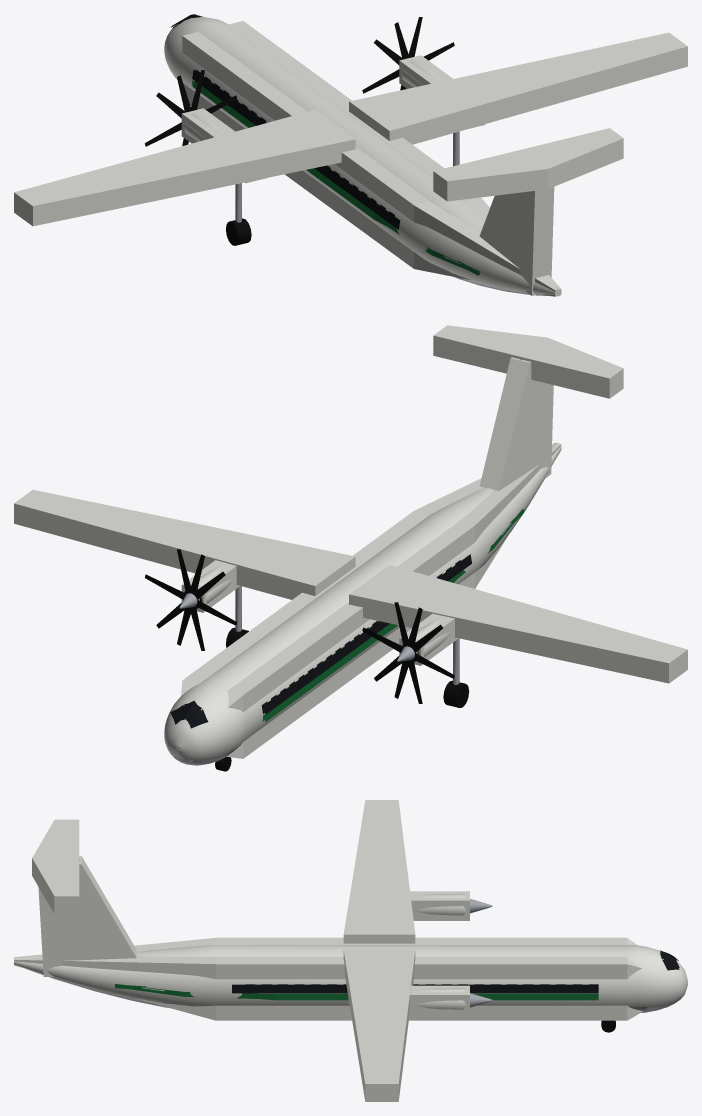
File: bne_ac_turboprop_green.dae
3 views of the same model, one above another, from view 1: azimuth 30°, elevation 25°; view 2: azimuth 150°, elevation 25°; view 3: azimuth 270°, elevation 25° (orthographic). The views are drawn at different scales.
Visible parts, largest first — view 1: Colmesh_bne_ac_turboprop_green-1, bne_ac_turboprop_green160, bne_ac_turboprop_green16; view 2: Colmesh_bne_ac_turboprop_green-1, bne_ac_turboprop_green160, bne_ac_turboprop_green16; view 3: Colmesh_bne_ac_turboprop_green-1, bne_ac_turboprop_green160, bne_ac_turboprop_green16.
Boxes of the visible parts, x1,y1,x2,y2 form: Colmesh_bne_ac_turboprop_green-1: (14, 21, 687, 296); bne_ac_turboprop_green160: (14, 16, 561, 296); bne_ac_turboprop_green16: (171, 14, 560, 296); Colmesh_bne_ac_turboprop_green-1: (14, 325, 687, 758); bne_ac_turboprop_green160: (145, 359, 686, 771); bne_ac_turboprop_green16: (170, 443, 557, 770); Colmesh_bne_ac_turboprop_green-1: (14, 800, 643, 1101); bne_ac_turboprop_green160: (14, 860, 687, 1094); bne_ac_turboprop_green16: (15, 902, 679, 1032).
Size of the model in its own units: 27.1 by 27.2 by 7.7.
